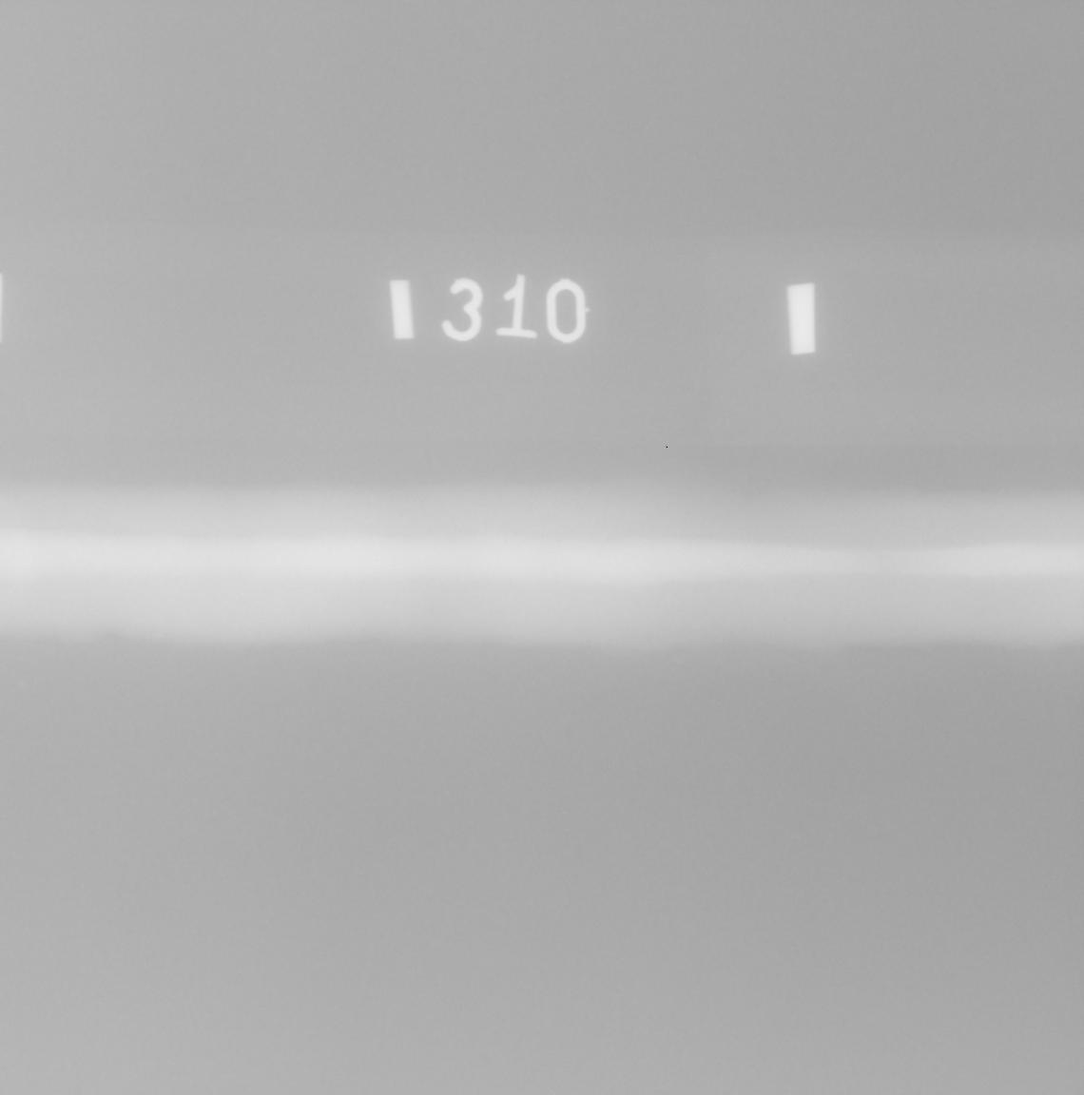Pore/Porosity: (878, 556, 884, 560)
